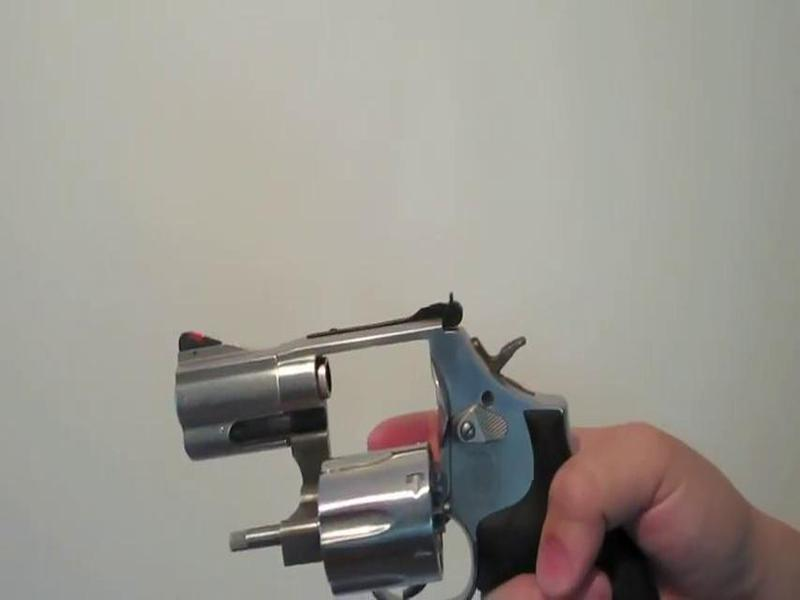Revolver: (162, 284, 657, 600)
